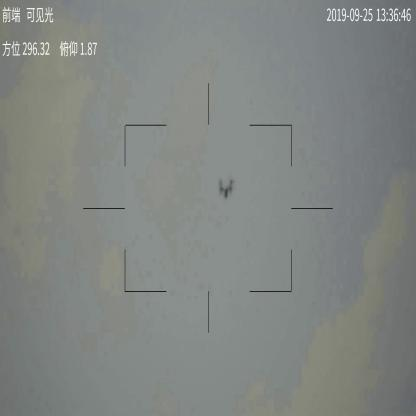uav: (215, 177, 235, 203)
